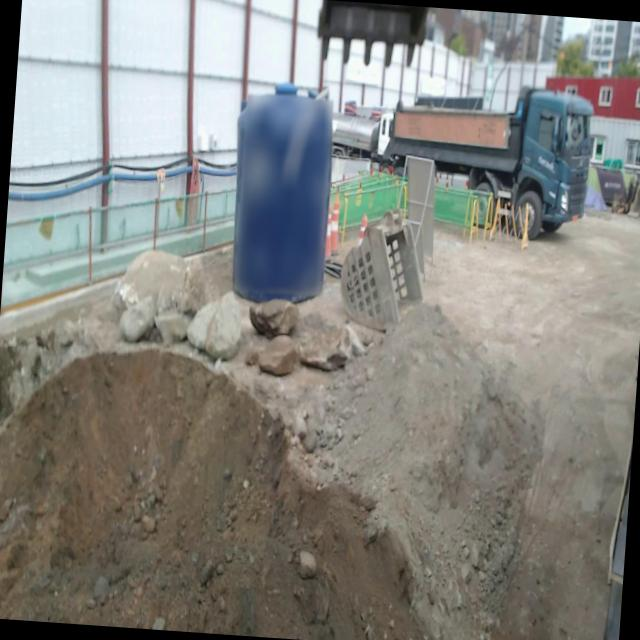stone: (113, 246, 232, 312), (186, 292, 241, 359), (293, 314, 358, 370), (249, 335, 299, 376), (249, 299, 298, 338), (119, 296, 154, 341), (154, 310, 190, 345)
white-sand: (0, 220, 640, 640)
